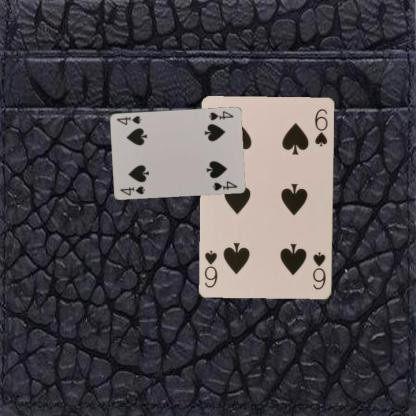4s: (117, 184, 146, 197), (206, 109, 234, 122)
6s: (310, 250, 327, 291)
